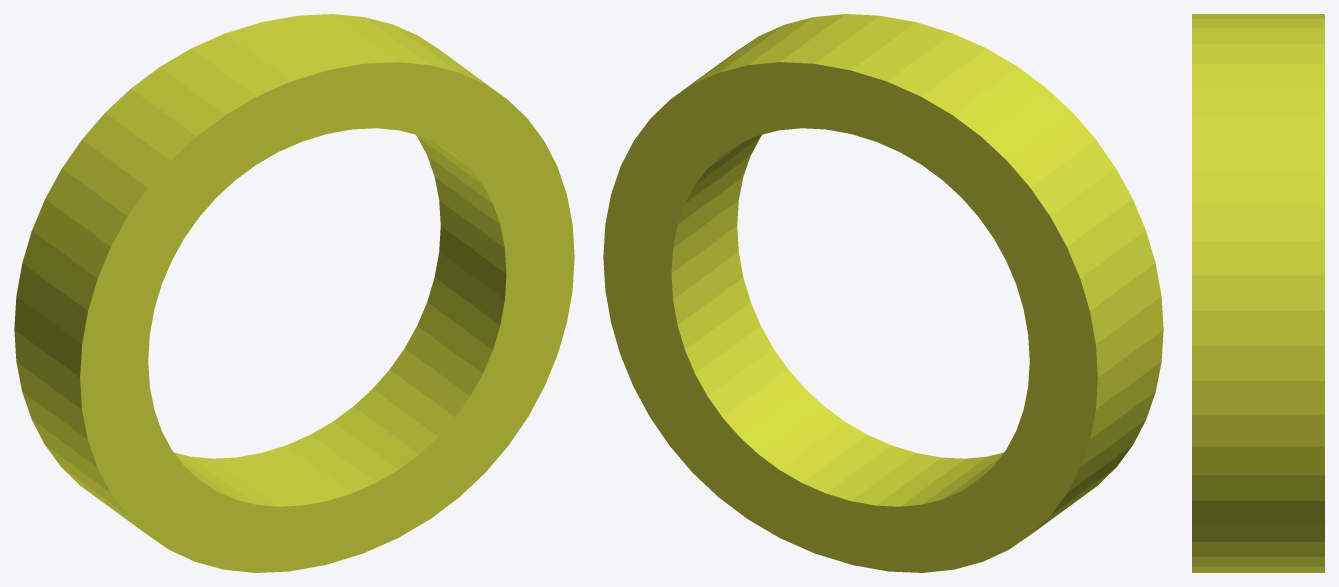
The model's file is ONE-O.gltf.
3 renders of one model, left to right at view 1: azimuth 30°, elevation 25°; view 2: azimuth 150°, elevation 25°; view 3: azimuth 270°, elevation 25°, orthographic.
Visible parts, largest first — view 1: Text; view 2: Text; view 3: Text.
Boxes of the visible parts, x1,y1,x2,y2 form: Text: (14,14,574,572); Text: (603,14,1163,572); Text: (1192,14,1324,572).
Size of the model in its own units: 35.82 by 34.21 by 8.25.
